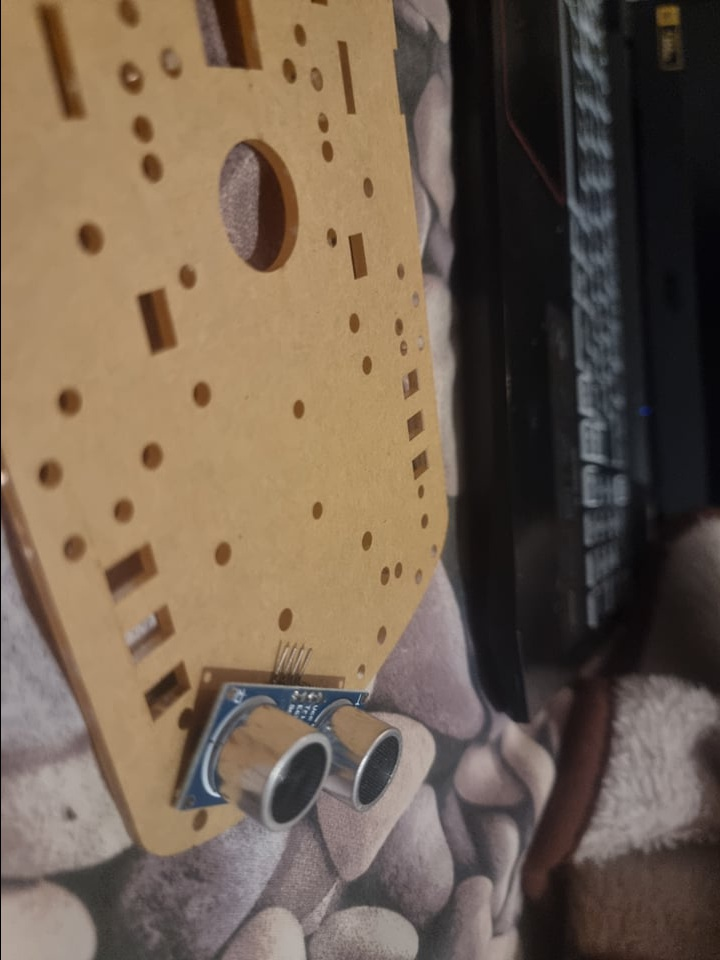SENSOR: (174, 686, 405, 831)
